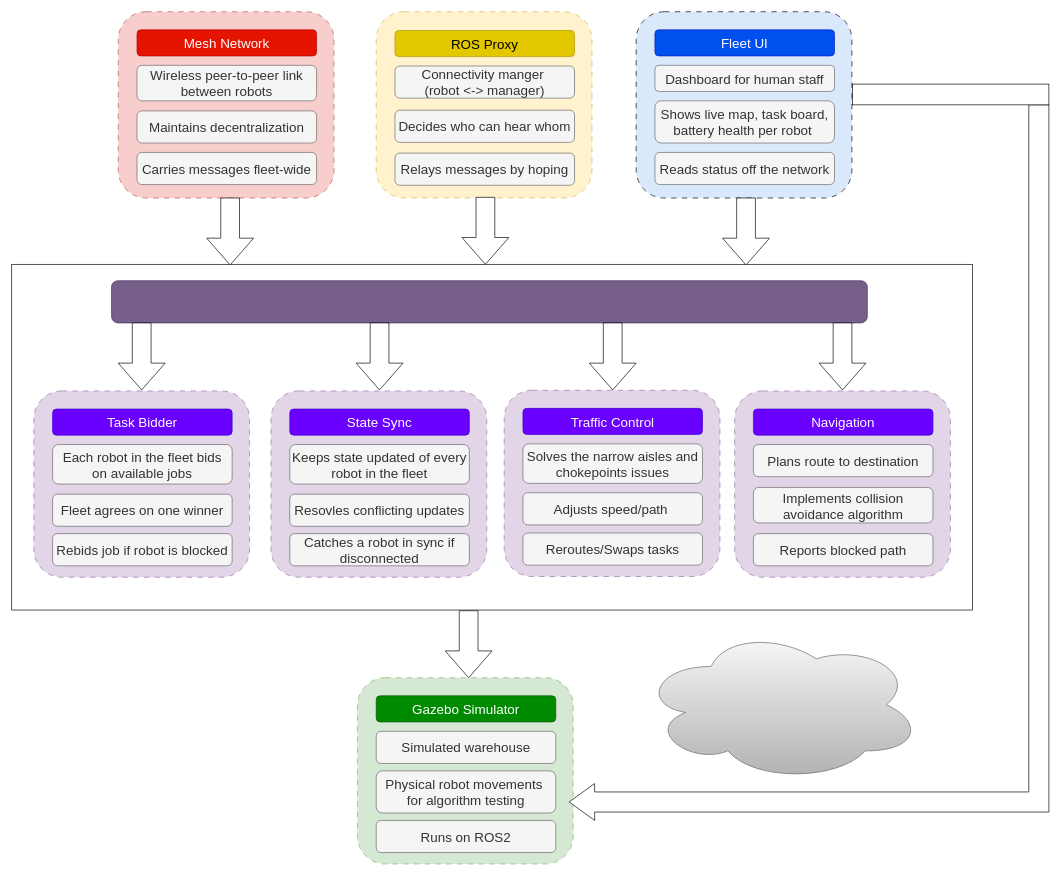
The diagram is 1061 pixels wide and 876 high, and some of its shapes have lost their labels. The centre of each missing label's shape, as x and y in pixels:
"Autnomous Mobile Robots (AMR) Fleet" belongs at point (489, 301).
"Updates live feed" belongs at point (781, 704).
